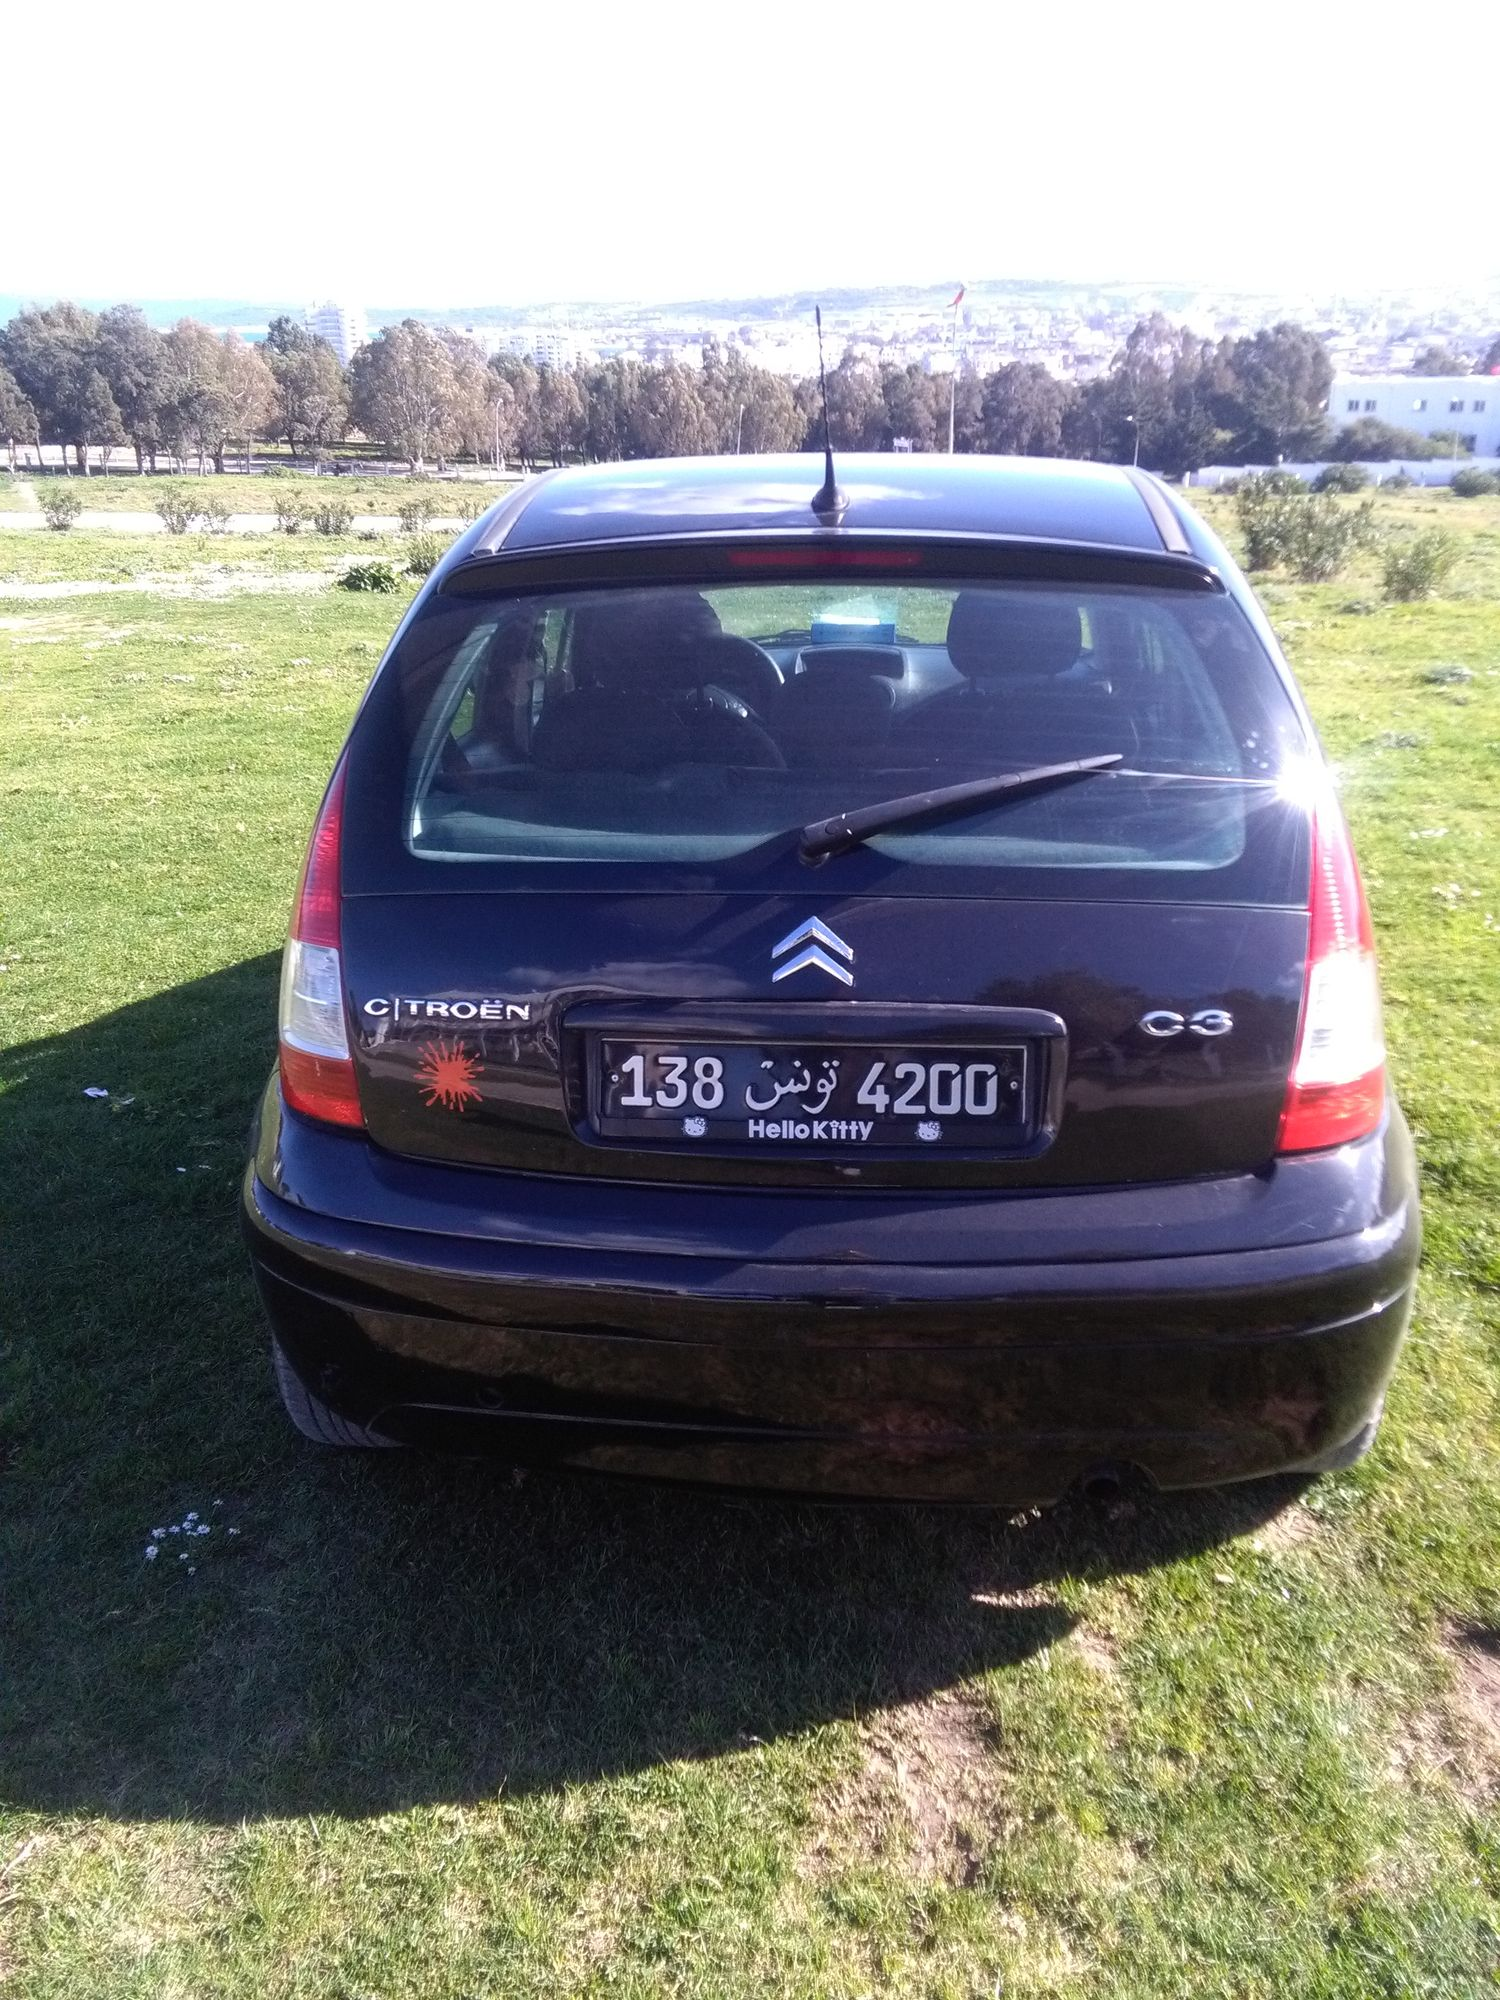LP: (595, 1023, 1027, 1146)
